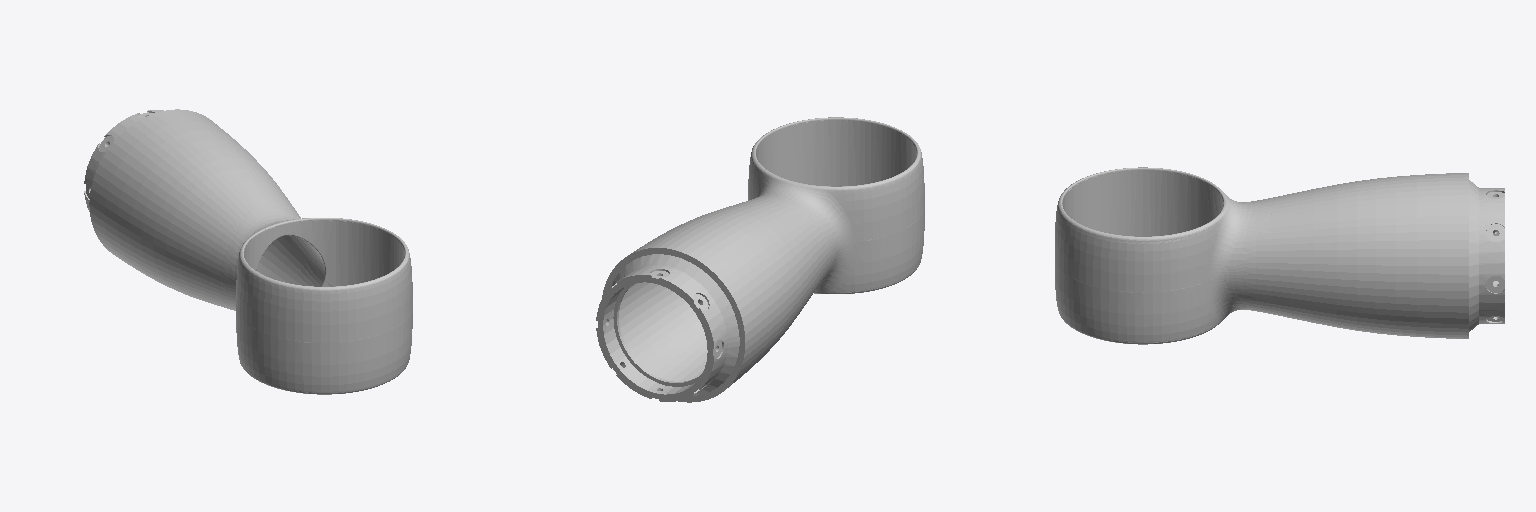
Rendered from right_arm_link3.obj.
3 views of the same model, side by side, from view 1: azimuth 30°, elevation 25°; view 2: azimuth 150°, elevation 25°; view 3: azimuth 270°, elevation 25° (orthographic).
Visible parts, largest first — view 1: arm_link3; view 2: arm_link3; view 3: arm_link3.
Boxes of the visible parts, x1,y1,x2,y2 form: arm_link3: [84, 109, 412, 394]; arm_link3: [596, 117, 924, 402]; arm_link3: [1055, 167, 1504, 344].
Size of the model in its own units: 0.0879 by 0.0827 by 0.224.